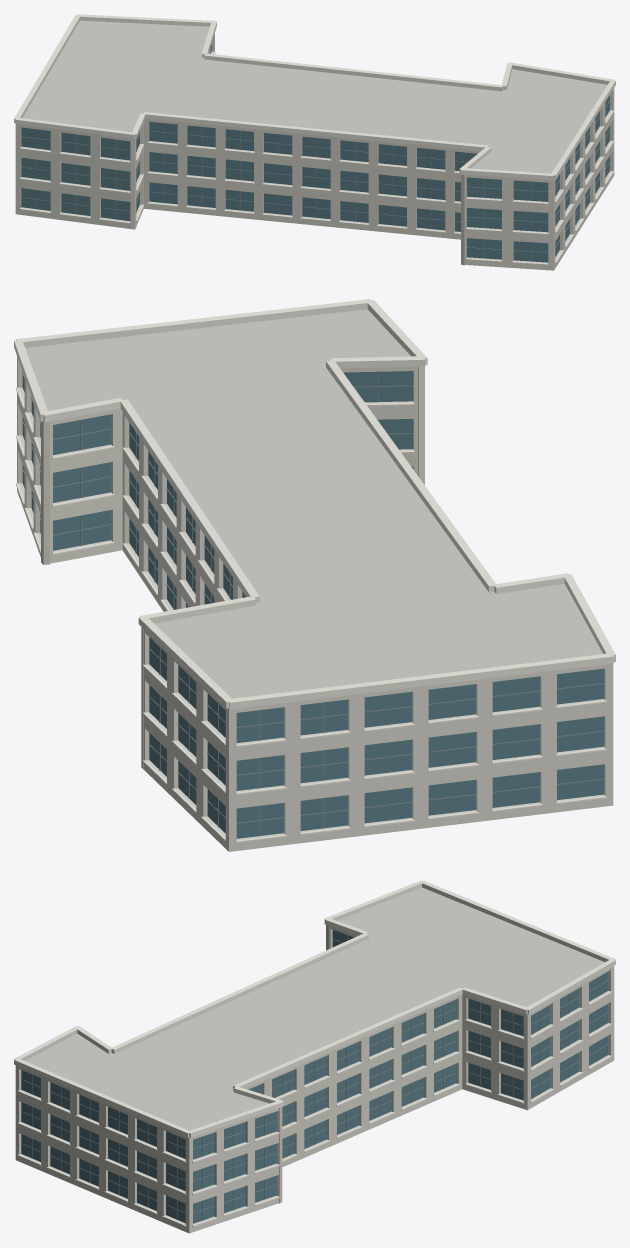
3 renders of one model, top to bottom at view 1: azimuth 30°, elevation 25°; view 2: azimuth 150°, elevation 25°; view 3: azimuth 270°, elevation 25°, orthographic. The views are drawn at different scales.
Visible parts, largest first — view 1: roof, wall, glass, trim, metal; view 2: roof, wall, glass, trim, metal; view 3: roof, wall, glass, trim, metal.
Boxes of the visible parts, box(x1,y1,x2,y2) form: roof: box(22, 20, 607, 173); wall: box(15, 33, 614, 270); glass: box(21, 44, 609, 262); trim: box(14, 14, 615, 265); metal: box(21, 100, 610, 261); roof: box(25, 309, 602, 698); wall: box(17, 356, 613, 851); glass: box(22, 371, 604, 838); trim: box(14, 299, 615, 842); metal: box(22, 371, 604, 836); roof: box(25, 887, 604, 1130); wall: box(15, 925, 614, 1233); glass: box(21, 930, 608, 1223); trim: box(14, 880, 615, 1226); metal: box(21, 935, 608, 1220).
Size of the model in its own units: 52.48 by 9.74 by 52.76.
